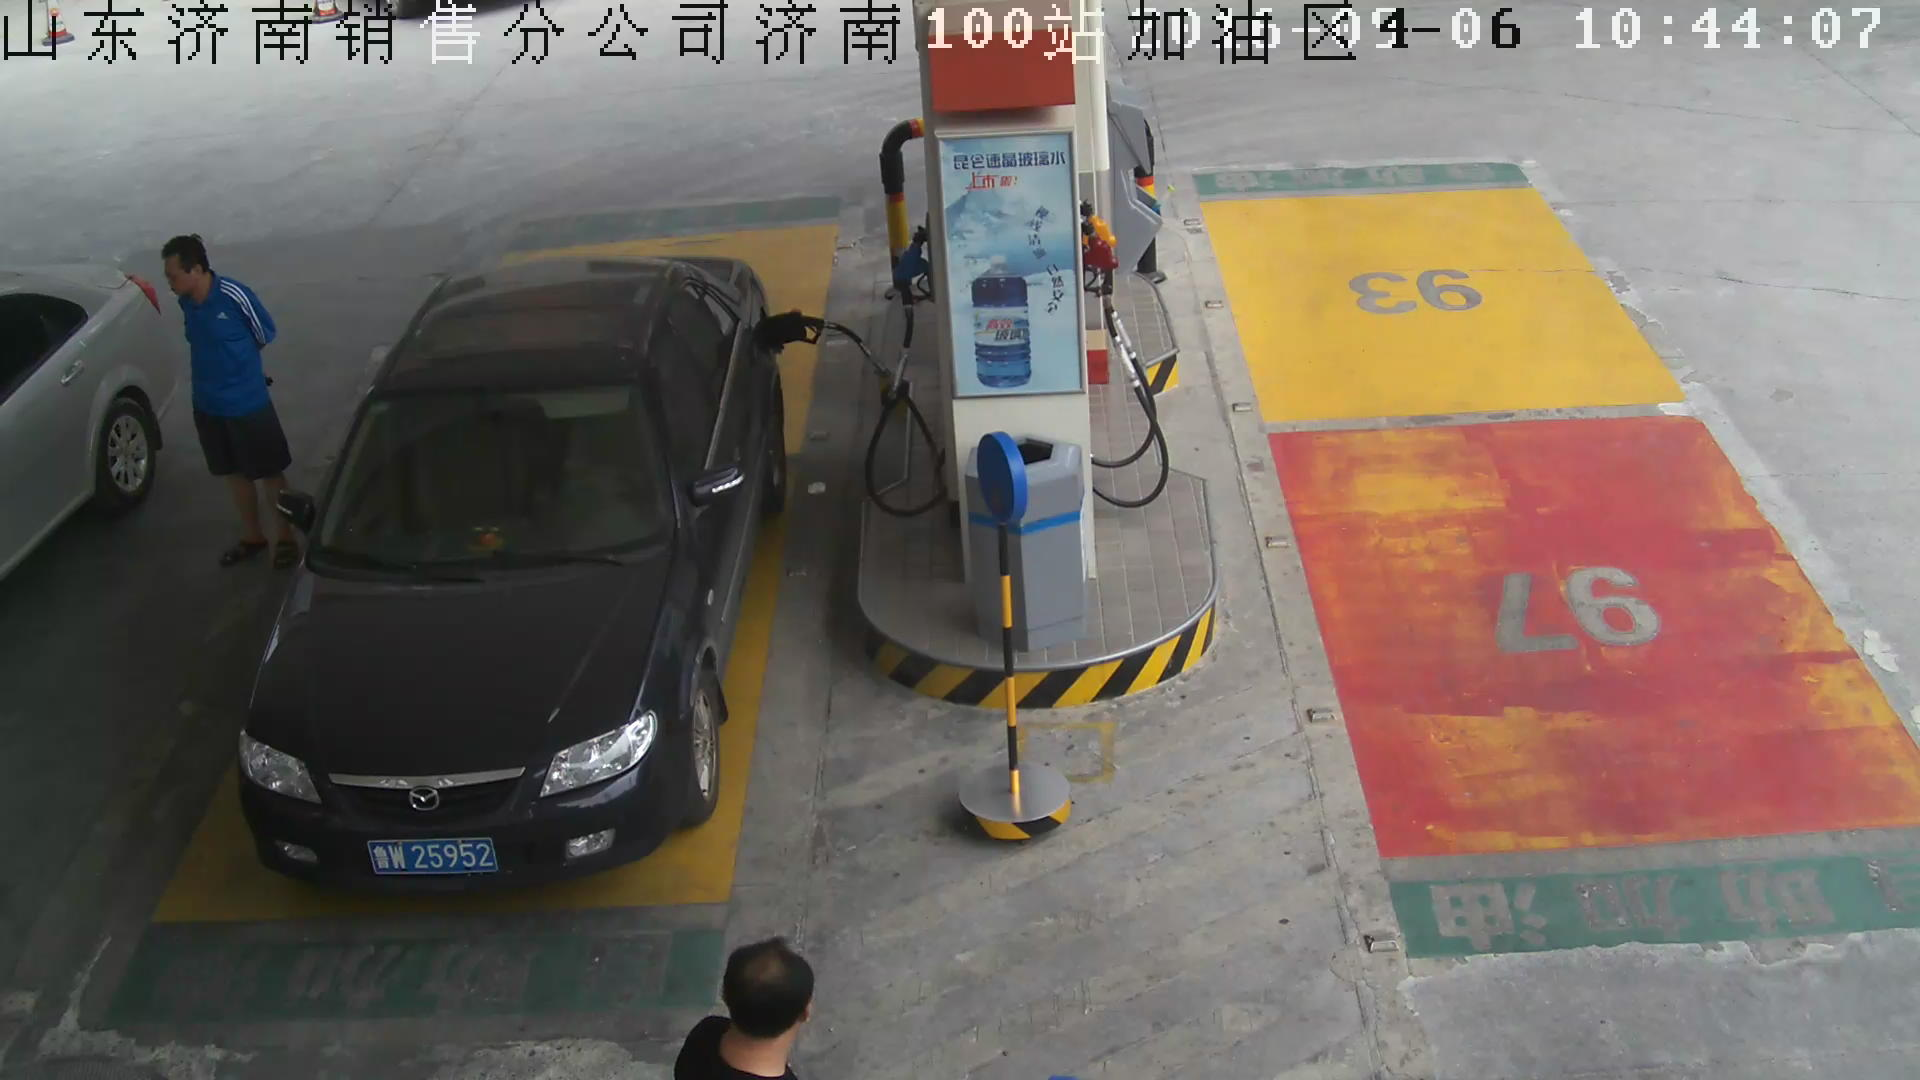blue: (365, 835, 501, 880)
